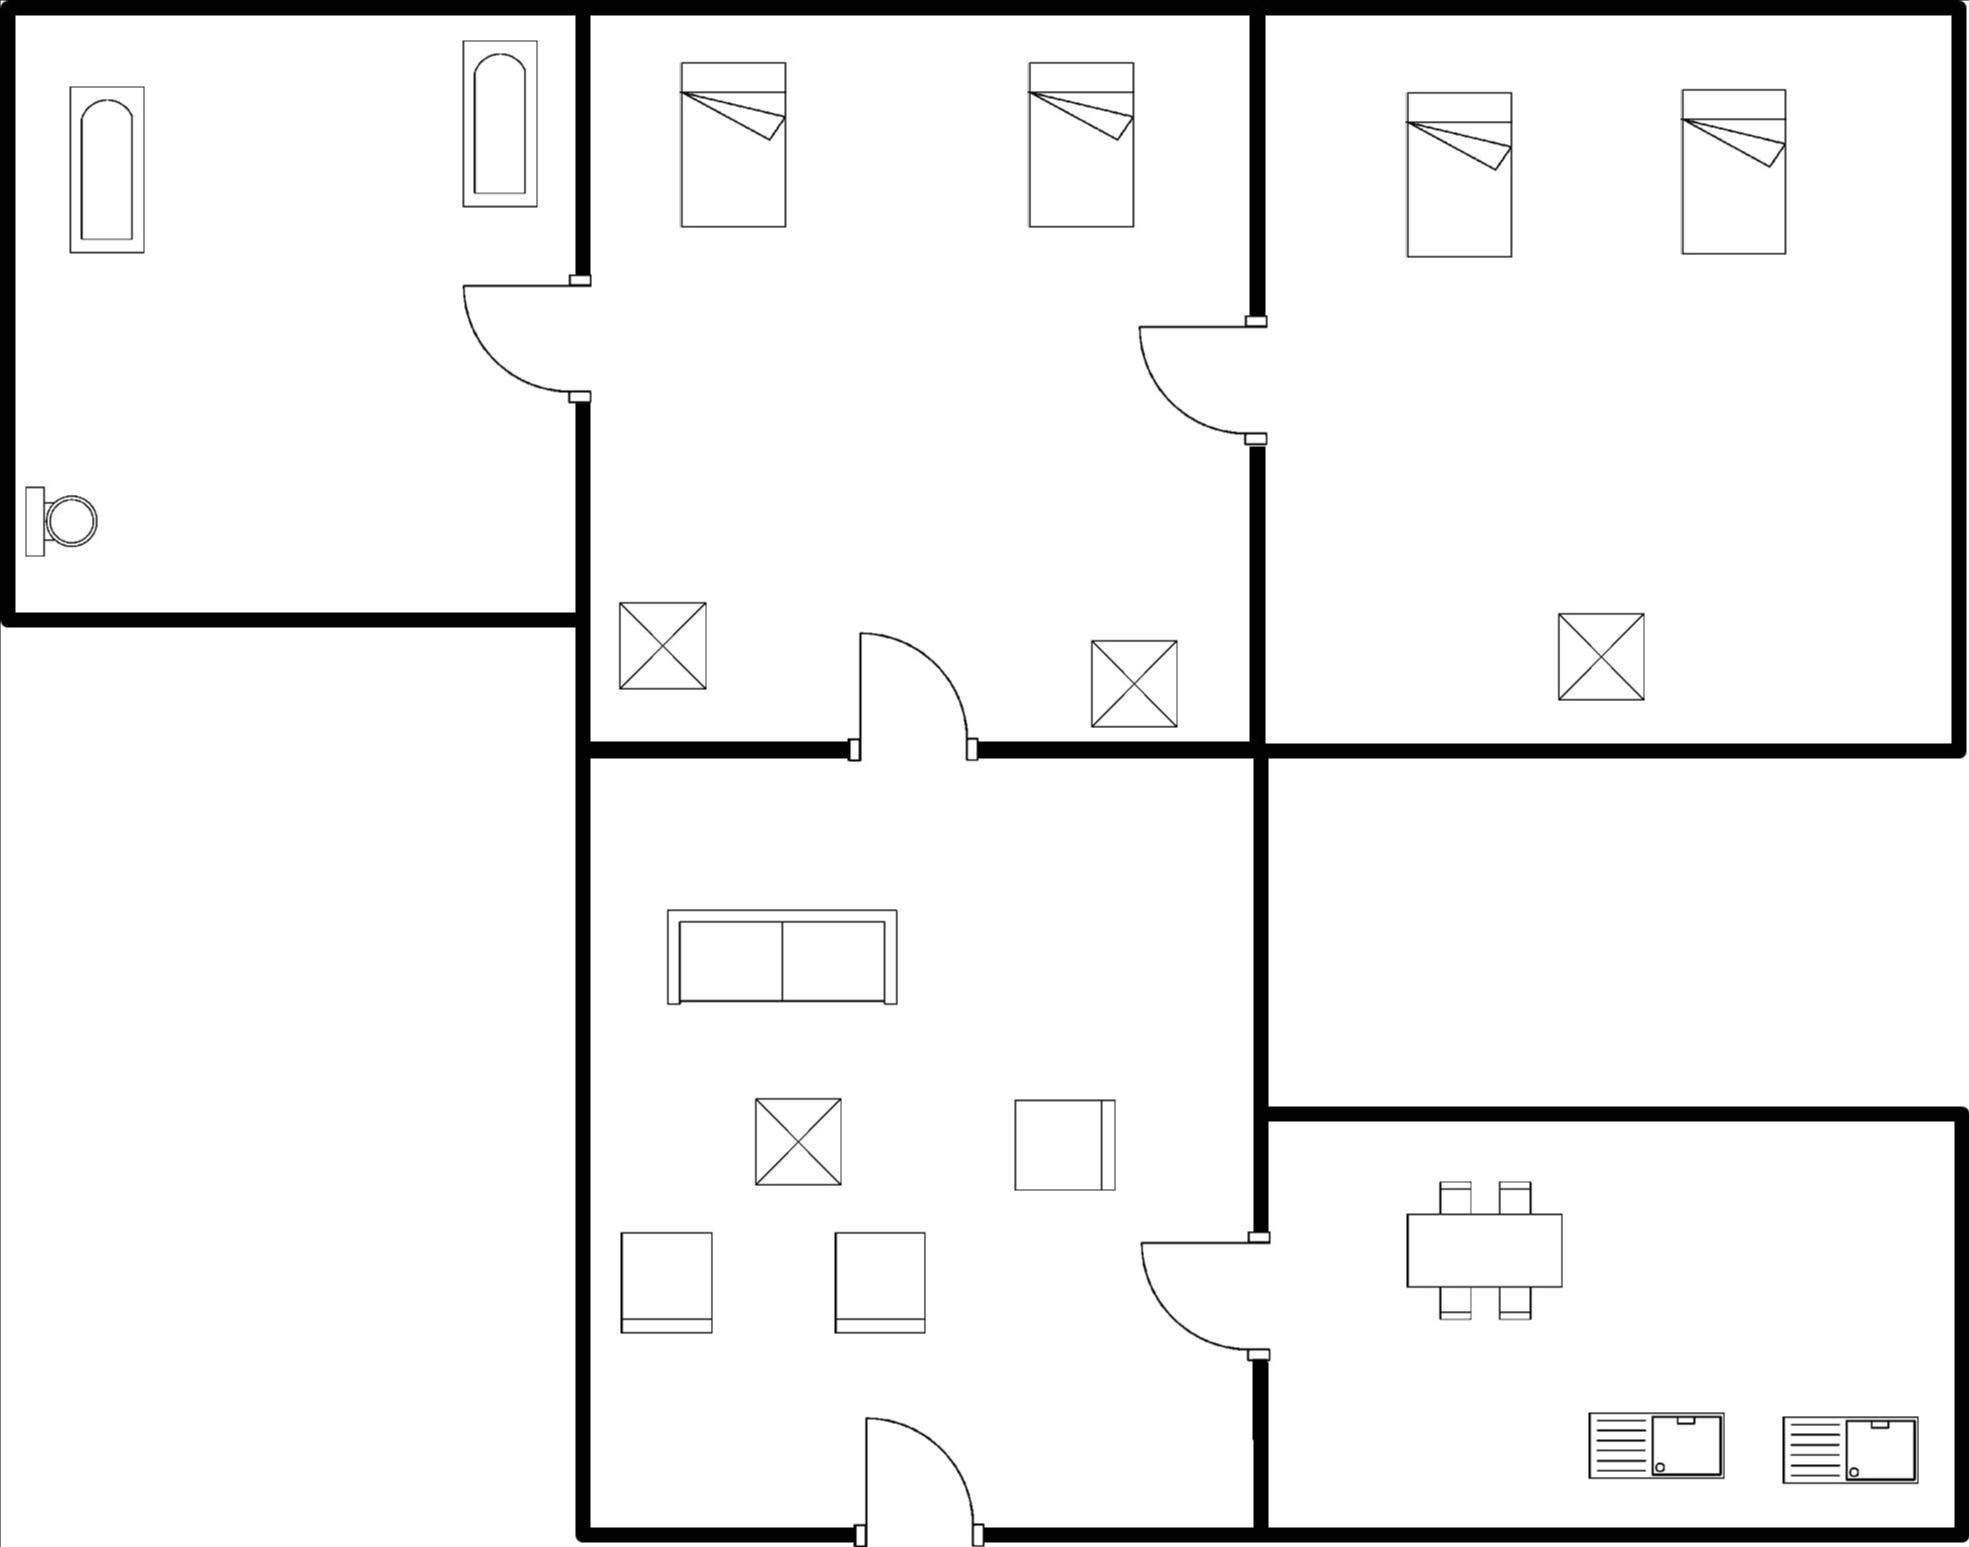bed: (666, 50, 801, 241), (1665, 77, 1800, 267), (1015, 50, 1148, 241), (1395, 78, 1525, 267)
dining_table: (1392, 1167, 1577, 1331)
sink: (1574, 1398, 1736, 1494), (1771, 1402, 1924, 1489)
sofa: (650, 893, 908, 1016)
toilet: (16, 475, 101, 566)
tub: (54, 74, 157, 272), (451, 30, 551, 217)
